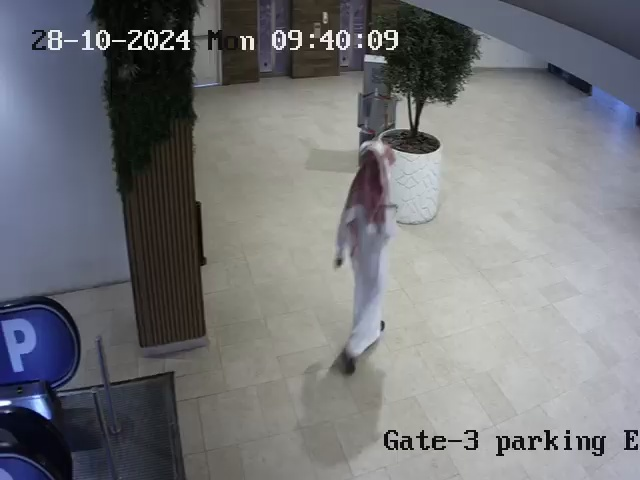male: (316, 141, 412, 384)
